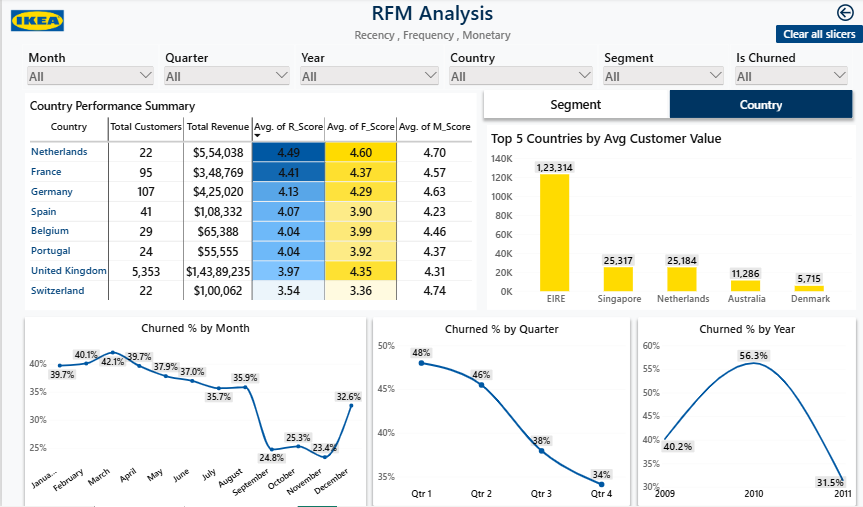

The page's visual inventory and layout, read from the dashboard file:
{"tool":"powerbi","page":{"name":"RFM Analysis","canvas":[3390,2000],"ordinal":1},"visuals":[{"type":"pivotTable","title":"Country Performance Summary","fields":{"Rows":["Sheet.Country"],"Values":["Sheet.Total Customers","Sheet.Total Revenue","Avg(Sheet.R_Score)","Avg(Sheet.F_Score)","Avg(Sheet.M_Score)"]},"box":[89.5,374.4,1778.4,854.6],"z":0,"group":"g1"},{"type":"lineChart","title":"Churned %  by Month","fields":{"Category":["Sheet.InvoiceMonth.Variation.Date Hierarchy.Month"],"Y":["Sheet.Churned %"]},"box":[88.7,1255.9,1342.5,744.1],"z":0},{"type":"columnChart","title":"Top 5 Countries by Avg Customer Value","fields":{"Category":["Sheet.Country"],"Y":["Sheet.Average Customer Value"]},"box":[1908.6,500.6,1452.9,728.5],"z":1000,"group":"g1"},{"type":"lineChart","title":"Churned % by Quarter","fields":{"Category":["Sheet.InvoiceMonth.Variation.Date Hierarchy.Quarter"],"Y":["Sheet.Churned %"]},"box":[1458.8,1255.9,1011.8,744.1],"z":1000},{"type":"lineChart","title":"Churned % by Year","fields":{"Category":["Sheet.InvoiceMonth.Variation.Date Hierarchy.Year"],"Y":["Sheet.Churned %"]},"box":[2502.1,1255.9,858.3,744.1],"z":2000},{"type":"slicer","fields":{"Values":["Sheet.InvoiceMonth.Variation.Date Hierarchy.Month"]},"box":[78.7,181.1,539.4,181.1],"z":3000},{"type":"slicer","fields":{"Values":["Sheet.InvoiceMonth.Variation.Date Hierarchy.Quarter"]},"box":[618.1,181.1,535.4,181.1],"z":4000},{"type":"slicer","fields":{"Values":["Sheet.InvoiceMonth.Variation.Date Hierarchy.Year"]},"box":[1153.5,181.1,586.6,181.1],"z":5000},{"type":"slicer","fields":{"Values":["Sheet.Country"]},"box":[1740.2,181.1,606.3,181.1],"z":6000},{"type":"slicer","fields":{"Values":["Sheet.Segment"]},"box":[2346.5,181.1,515.7,181.1],"z":7000},{"type":"slicer","fields":{"Values":["Sheet.IsChurned"]},"box":[2866.1,181.1,484.3,181.1],"z":8000},{"type":"bookmarkNavigator","box":[1897.6,362.2,1452.8,110.2],"z":10000},{"type":"image","box":[0,0,279,179.1],"z":11000},{"type":"textbox","box":[1024.5,0,1341,108.3],"z":12000},{"type":"textbox","box":[1047.2,114.2,1295.3,66.9],"z":13000},{"type":"actionButton","box":[3236.4,0,153.6,114.2],"z":14000},{"type":"actionButton","box":[3047.5,106.3,342.5,70.9],"z":15000},{"type":"group","id":"g1","title":"Group 1","box":[89.5,374.4,3272,854.6],"z":17000}]}

Visuals, with their boxes in screenshot pixels (x1, y1, x2, y2), scaled from the page's 3390x2000 canvas onto the 863x507 screenshot:
"Country Performance Summary" pivotTable: (left=23, top=95, right=476, bottom=312)
"Churned %  by Month" lineChart: (left=23, top=318, right=364, bottom=506)
"Top 5 Countries by Avg Customer Value" columnChart: (left=486, top=127, right=856, bottom=312)
"Churned % by Quarter" lineChart: (left=371, top=318, right=629, bottom=506)
"Churned % by Year" lineChart: (left=637, top=318, right=855, bottom=506)
slicer - Sheet.InvoiceMonth.Variation.Date Hierarchy.Month: (left=20, top=46, right=157, bottom=92)
slicer - Sheet.InvoiceMonth.Variation.Date Hierarchy.Quarter: (left=157, top=46, right=294, bottom=92)
slicer - Sheet.InvoiceMonth.Variation.Date Hierarchy.Year: (left=294, top=46, right=443, bottom=92)
slicer - Sheet.Country: (left=443, top=46, right=597, bottom=92)
slicer - Sheet.Segment: (left=597, top=46, right=729, bottom=92)
slicer - Sheet.IsChurned: (left=730, top=46, right=853, bottom=92)
bookmarkNavigator: (left=483, top=92, right=853, bottom=120)
image: (left=0, top=0, right=71, bottom=45)
textbox: (left=261, top=0, right=602, bottom=27)
textbox: (left=267, top=29, right=596, bottom=46)
actionButton: (left=824, top=0, right=862, bottom=29)
actionButton: (left=776, top=27, right=862, bottom=45)
"Group 1" group: (left=23, top=95, right=856, bottom=312)
